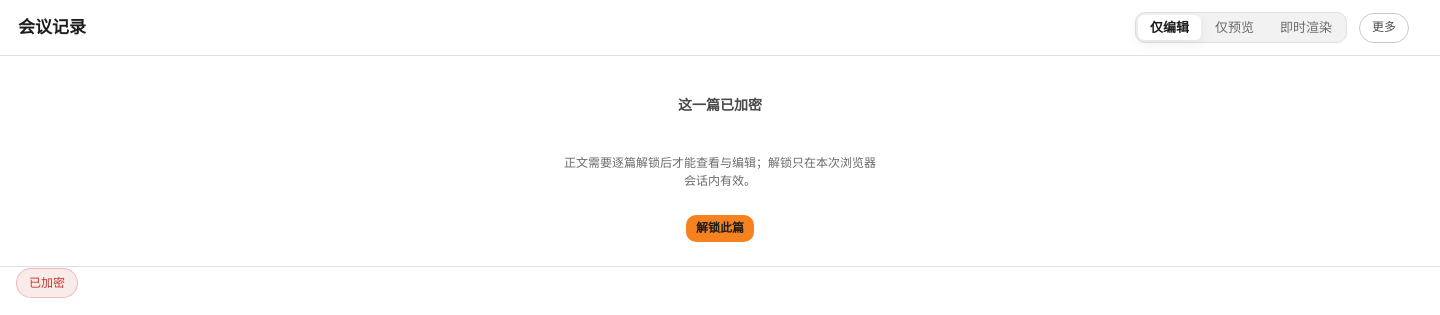
Scenario: 「更多」菜单里的单篇导出（M15） › 锁定态两项都禁用并说明原因（正文都看不了，更不该导出）
What coordinates should you click on to do the following:
click the button "更多"
I would click on:
 (1392, 28)
Its box is [1359,12,1424,42].
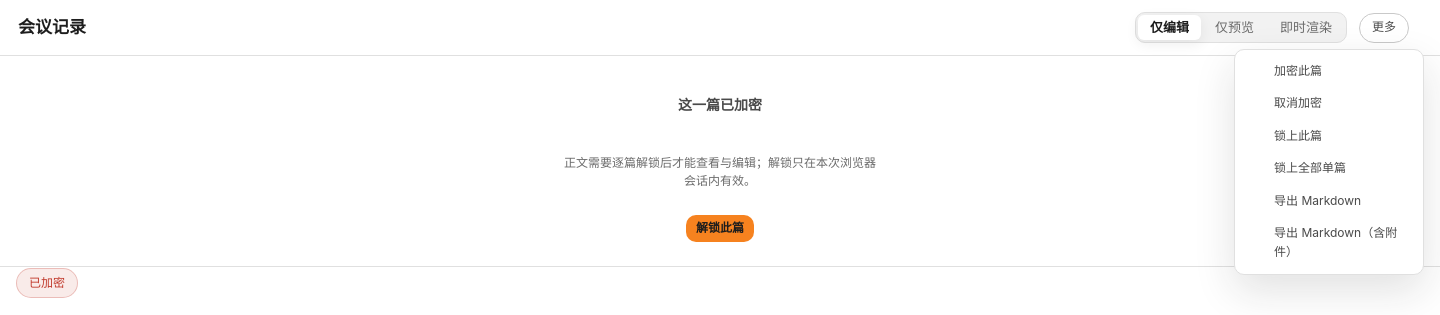
Now the menu item "导出 Markdown" is disabled, box [1240,185,1418,218]
Now the menu item "导出 Markdown（含附件）" is disabled, box [1240,218,1418,269]
